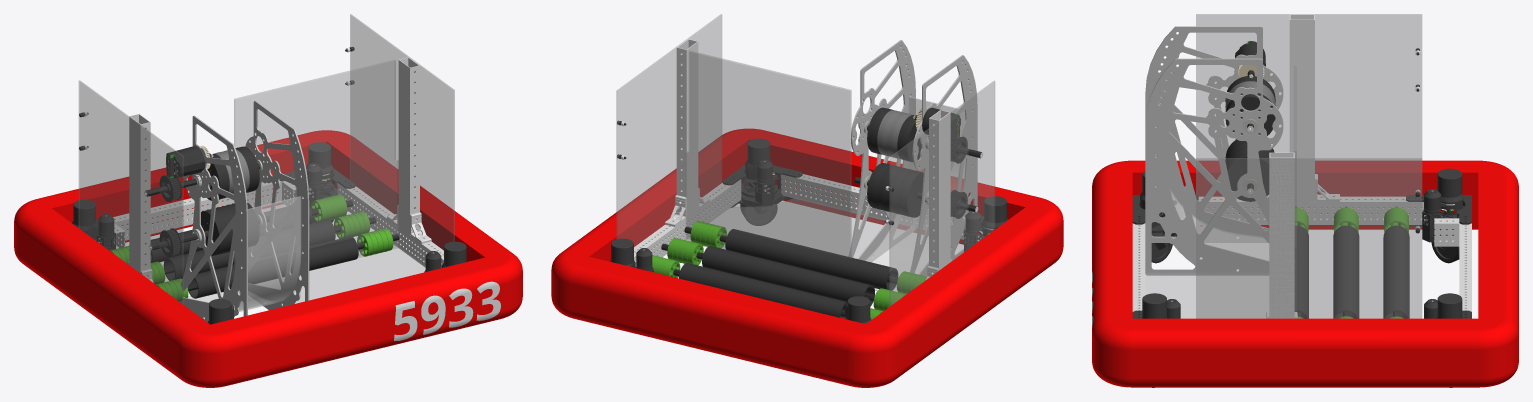
3 views of the same model, side by side, from view 1: azimuth 30°, elevation 25°; view 2: azimuth 150°, elevation 25°; view 3: azimuth 270°, elevation 25° (orthographic). The views are drawn at different scales.
Visible parts, largest first — view 1: Bumpers, Hopper Back Wall, Hopper Wall 2, Hopper Wall 1, 2" x 1" x 0.0625" Aluminum Box Tube (16" L, Top Pattern, 1"  (×2), Shooter Plate, Shooter Plate-Mirrored, 2" OD Aluminum VersaRoller Tube (1.875" ID, 16" L) (×3), Part 2, Simplified MAXSwerve Module (×4), 2" x 1" x 0.125" Aluminum Box Tube (20" L, Full Pattern, 0.5 (×2), Part 1 (+3 smaller); view 2: Bumpers, Hopper Back Wall, Hopper Wall 2, Hopper Wall 1, 2" OD Aluminum VersaRoller Tube (1.875" ID, 16" L) (×3), 2" x 1" x 0.0625" Aluminum Box Tube (16" L, Top Pattern, 1"  (×2), Simplified MAXSwerve Module (×4), Part 1, Shooter Plate, 2" x 1" x 0.125" Aluminum Box Tube (20" L, Full Pattern, 0.5 (×2), Shooter Plate-Mirrored, 4" Stealth Wheel (60A, 1/2" Hex Bore) (×6) (+3 smaller); view 3: Bumpers, Hopper Wall 1, Hopper Wall 2, Shooter Plate, 2" x 1" x 0.0625" Aluminum Box Tube (16" L, Top Pattern, 1"  (×2), Shooter Plate-Mirrored, 2" OD Aluminum VersaRoller Tube (1.875" ID, 16" L) (×3), Simplified MAXSwerve Module (×4), 2" x 1" x 0.125" Aluminum Box Tube (20" L, Full Pattern, 0.5 (×3), Part 1, 4" Stealth Wheel (60A, 1/2" Hex Bore) (×2), Part 2 (+2 smaller).
Part boxes in pixels (<box>): Bumpers: <box>14,130,522,387</box>; Hopper Back Wall: <box>234,60,398,265</box>; Hopper Wall 2: <box>79,80,183,304</box>; Hopper Wall 1: <box>350,14,454,249</box>; 2" x 1" x 0.0625" Aluminum Box Tube (16" L, Top Pattern, 1"  (×2): <box>129,57,419,273</box>; Shooter Plate: <box>245,100,309,310</box>; Shooter Plate-Mirrored: <box>180,115,247,322</box>; 2" OD Aluminum VersaRoller Tube (1.875" ID, 16" L) (×3): <box>150,206,358,298</box>; Part 2: <box>188,196,300,311</box>; Simplified MAXSwerve Module (×4): <box>72,142,466,324</box>; 2" x 1" x 0.125" Aluminum Box Tube (20" L, Full Pattern, 0.5 (×2): <box>113,178,443,267</box>; Part 1: <box>257,245,425,303</box>; Bumpers: <box>551,128,1063,387</box>; Hopper Back Wall: <box>686,51,851,258</box>; Hopper Wall 2: <box>889,81,994,306</box>; Hopper Wall 1: <box>616,14,721,246</box>; 2" OD Aluminum VersaRoller Tube (1.875" ID, 16" L) (×3): <box>679,229,898,317</box>; 2" x 1" x 0.0625" Aluminum Box Tube (16" L, Top Pattern, 1"  (×2): <box>676,39,950,270</box>; Simplified MAXSwerve Module (×4): <box>610,138,1008,323</box>; Part 1: <box>685,198,884,258</box>; Shooter Plate: <box>848,40,915,261</box>; 2" x 1" x 0.125" Aluminum Box Tube (20" L, Full Pattern, 0.5 (×2): <box>634,174,983,266</box>; Shooter Plate-Mirrored: <box>910,55,977,276</box>; 4" Stealth Wheel (60A, 1/2" Hex Bore) (×6): <box>867,107,923,217</box>; Bumpers: <box>1092,160,1518,387</box>; Hopper Wall 1: <box>1196,158,1421,318</box>; Hopper Wall 2: <box>1196,14,1421,196</box>; Shooter Plate: <box>1145,58,1283,275</box>; 2" x 1" x 0.0625" Aluminum Box Tube (16" L, Top Pattern, 1"  (×2): <box>1269,14,1314,318</box>; Shooter Plate-Mirrored: <box>1145,26,1283,242</box>; 2" OD Aluminum VersaRoller Tube (1.875" ID, 16" L) (×3): <box>1295,225,1409,318</box>; Simplified MAXSwerve Module (×4): <box>1132,168,1471,387</box>; 2" x 1" x 0.125" Aluminum Box Tube (20" L, Full Pattern, 0.5 (×3): <box>1132,196,1471,311</box>; Part 1: <box>1145,272,1268,318</box>; 4" Stealth Wheel (60A, 1/2" Hex Bore) (×2): <box>1225,93,1275,201</box>; Part 2: <box>1160,96,1268,260</box>.
Size of the model in its own units: 0.8636 by 0.5482 by 0.8636.
